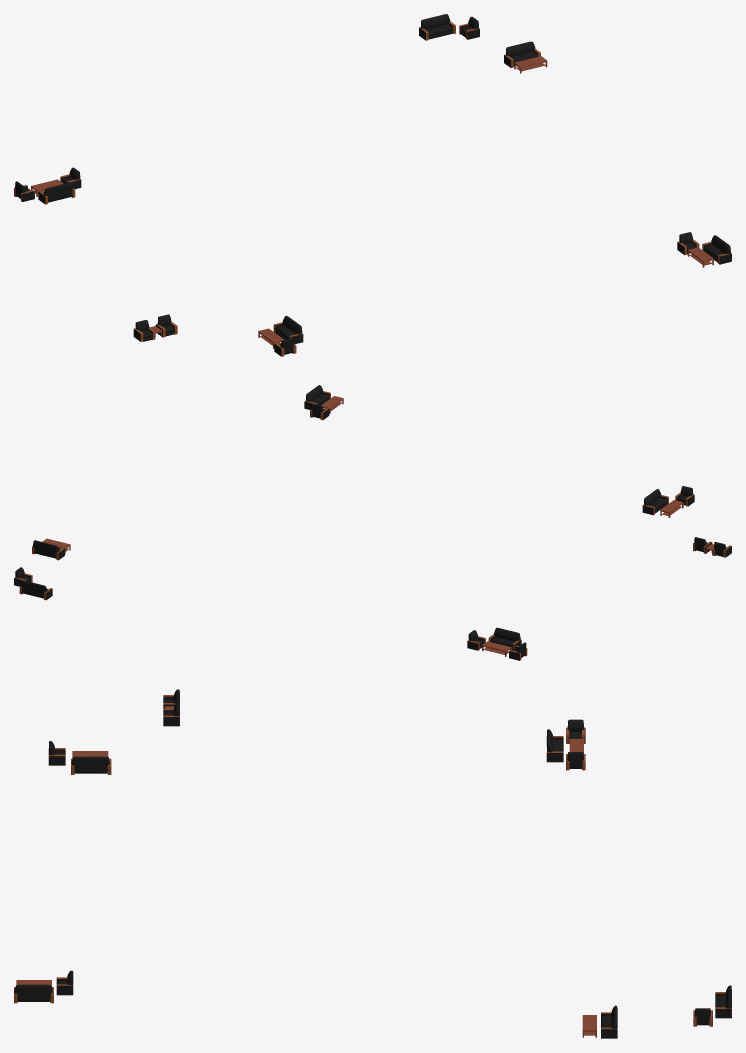
File: sofa.glb
3 views of the same model, one above another, from view 1: azimuth 30°, elevation 25°; view 2: azimuth 150°, elevation 25°; view 3: azimuth 270°, elevation 25° (orthographic). The views are drawn at different scales.
Parts seen in each view (by area): view 1: no part large enough to name; view 2: no part large enough to name; view 3: 立方体.506, 立方体.453.
Boxes of the visible parts, bbox=[...] form: 立方体.506: bbox=[14, 984, 52, 1001]; 立方体.453: bbox=[71, 756, 109, 772].
Bounding box in the file's own units: 17.39 × 0.4293 × 15.85.
4 materials, 4 textured.
